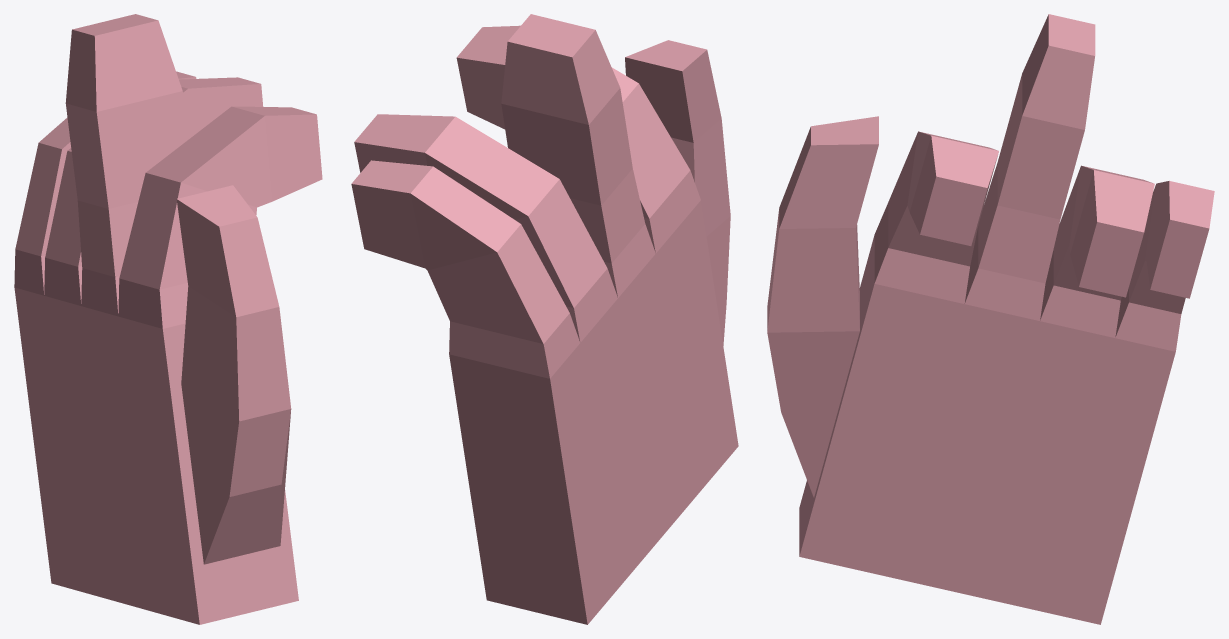
Rendered from hand.glb.
3 views of the same model, side by side, from view 1: azimuth 30°, elevation 25°; view 2: azimuth 150°, elevation 25°; view 3: azimuth 270°, elevation 25° (orthographic).
Parts seen in each view (by area): view 1: Cube 1m3; view 2: Cube 1m3; view 3: Cube 1m3.
Part boxes in pixels (<box>): Cube 1m3: <box>14,14,322,624</box>; Cube 1m3: <box>351,14,738,624</box>; Cube 1m3: <box>767,14,1214,624</box>.
Size of the model in its own units: 0.7857 by 2.03 by 1.44.
